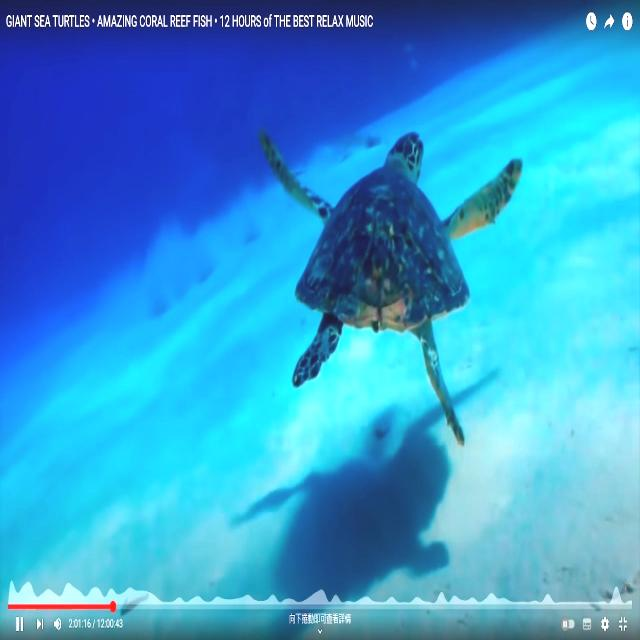Sea turtle: (261, 125, 525, 444)
